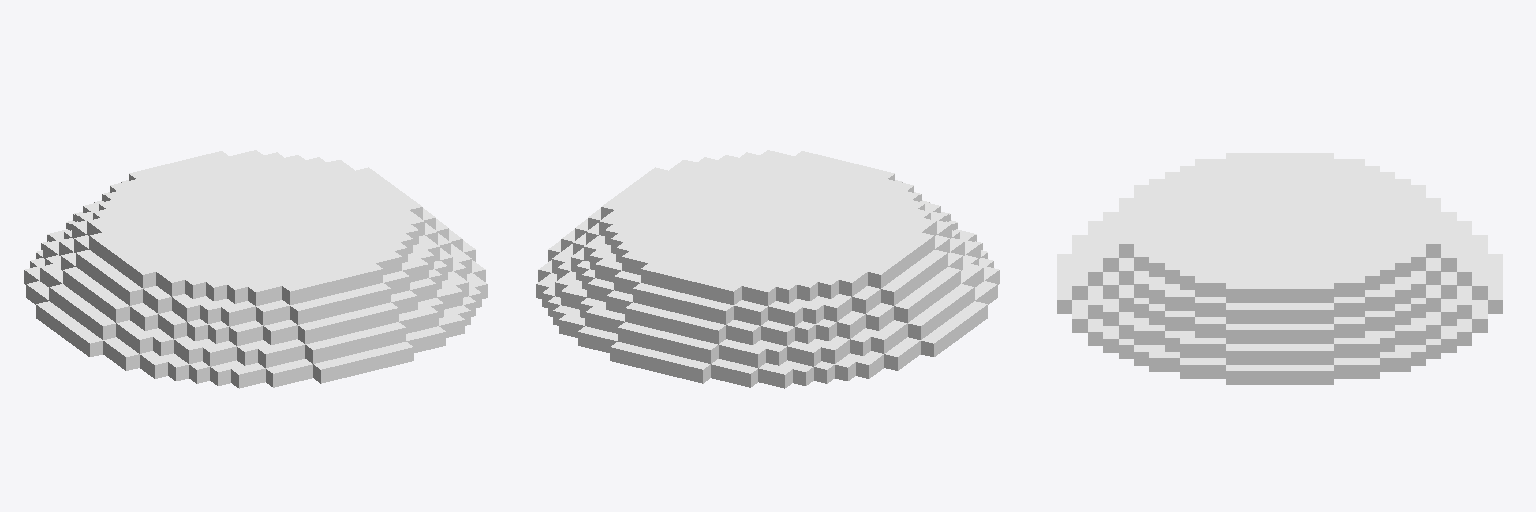
The model's file is UnicornPlatform.obj.
The picture shows the model from 3 angles: view 1: azimuth 30°, elevation 25°; view 2: azimuth 150°, elevation 25°; view 3: azimuth 270°, elevation 25°; orthographic projection.
Parts seen in each view (by area): view 1: object 1; view 2: object 1; view 3: object 1.
Boxes of the visible parts, x1,y1,x2,y2 form: object 1: [24, 150, 487, 388]; object 1: [536, 150, 999, 388]; object 1: [1057, 153, 1502, 384].
Size of the model in its own units: 2.9 by 0.5 by 2.9.